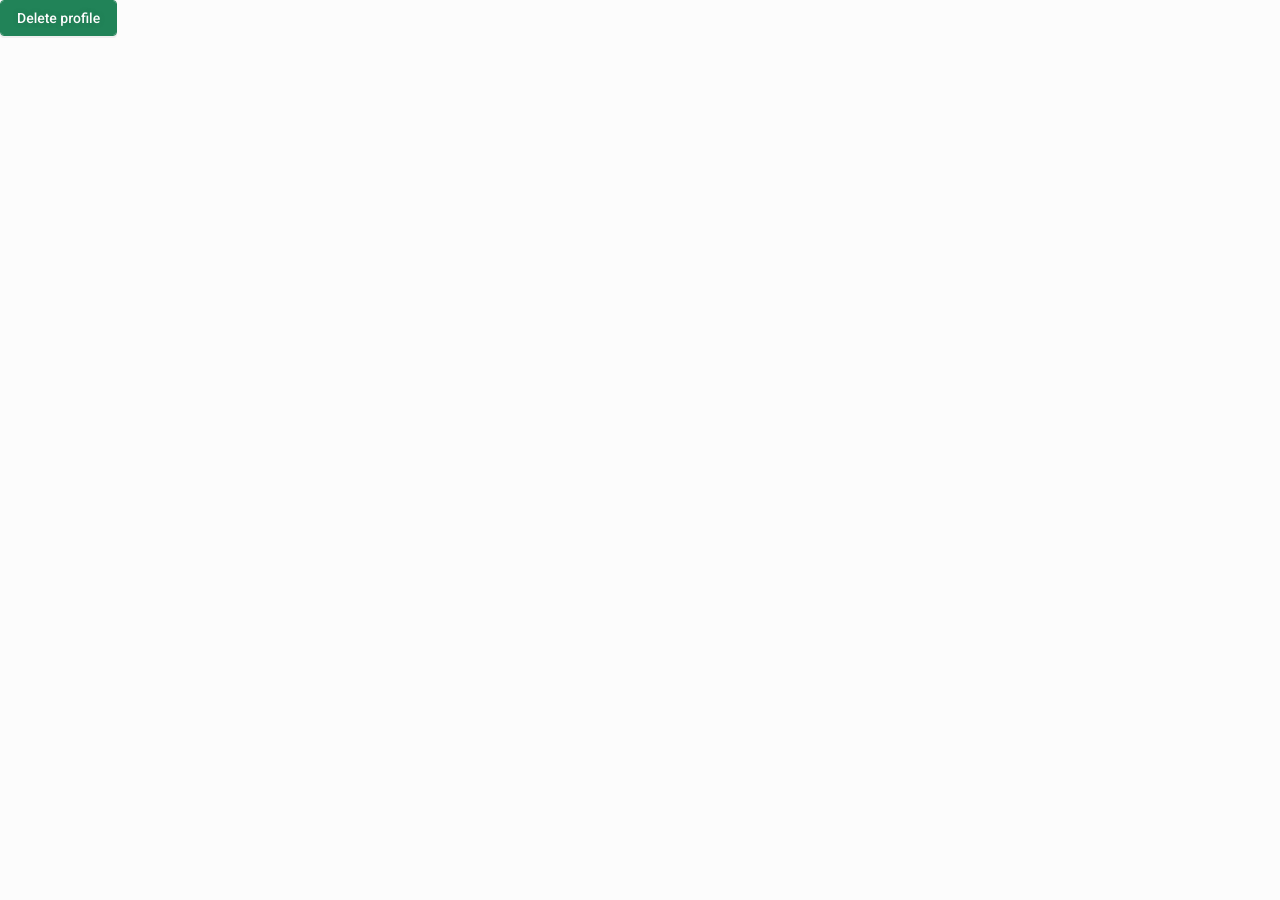
Scenario: ConfirmDialog › ignores a second click while onConfirm is in flight
The image size is (1280, 900).
Later steps or results of the test are not shown.
Click the button "Delete profile": [59, 18] box [0, 0, 117, 36]
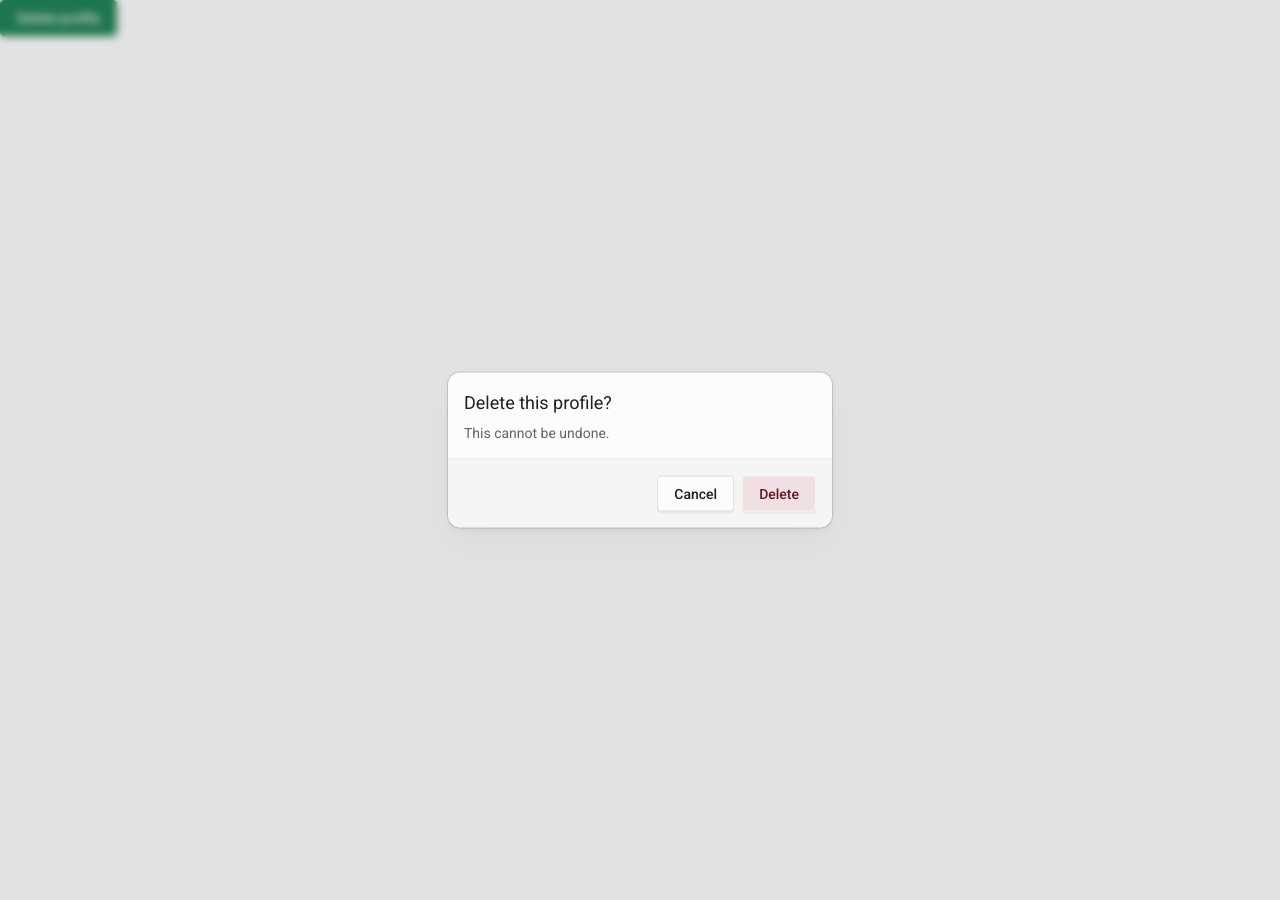
Result: the dialog is shown at [448, 372, 832, 528]
